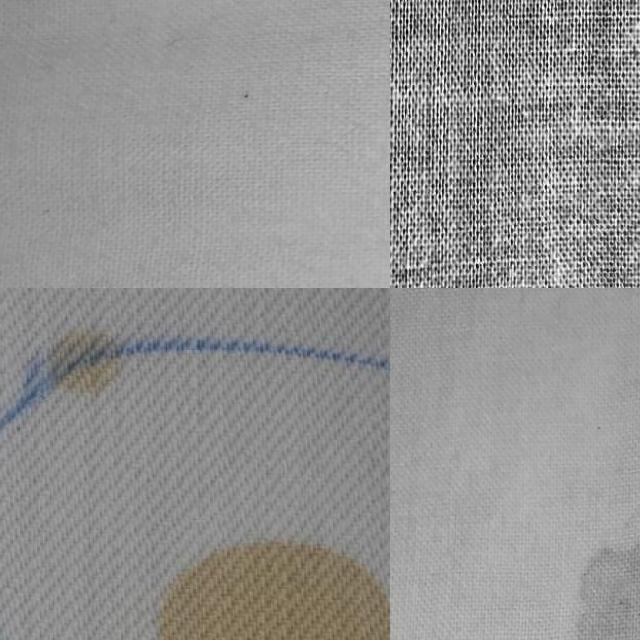Hole: (130, 476, 390, 640), (518, 427, 640, 640), (200, 48, 302, 136)
